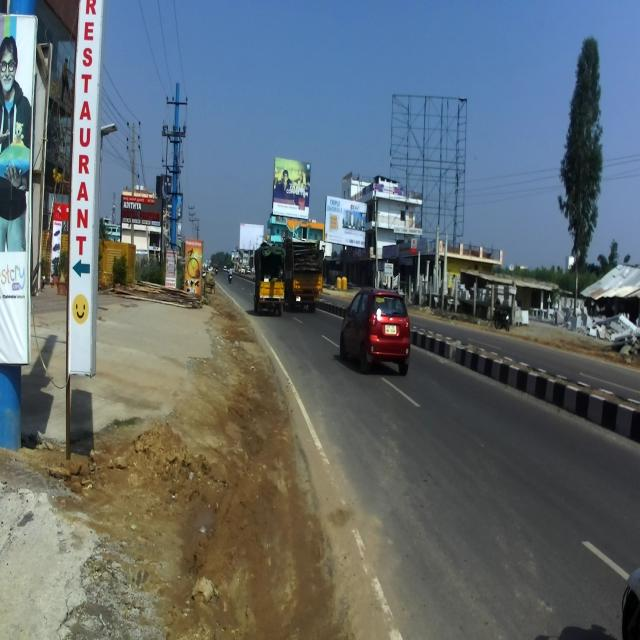Car_Chevrolet: (340, 285, 410, 376)
truck: (284, 235, 322, 312), (253, 242, 285, 317)
